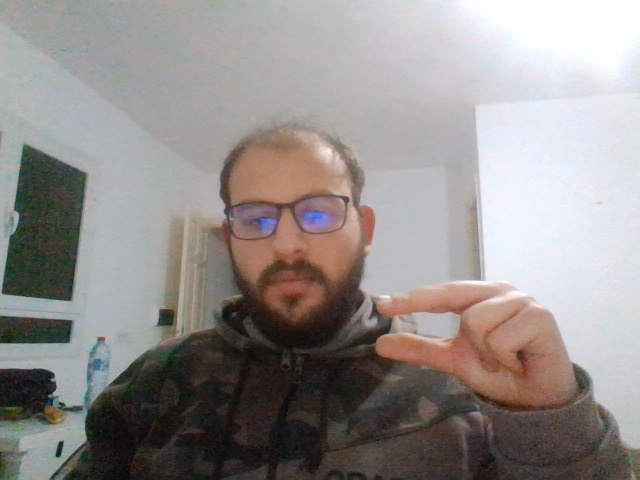No: (377, 290, 562, 400)
